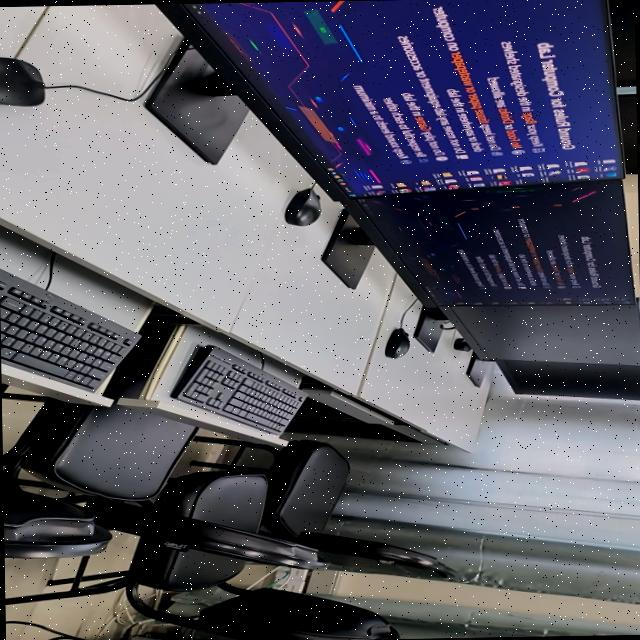Chair: (1, 387, 326, 567), (5, 536, 399, 640), (191, 435, 453, 576), (3, 485, 111, 557)
Keyboard: (0, 268, 139, 388), (171, 344, 306, 434)
Monitor: (148, 0, 623, 201), (361, 178, 634, 304), (415, 304, 640, 364), (496, 359, 640, 399), (609, 0, 636, 85), (619, 94, 637, 173)
Mouse: (0, 57, 44, 105), (284, 187, 321, 225), (385, 327, 410, 357), (454, 337, 470, 350)
